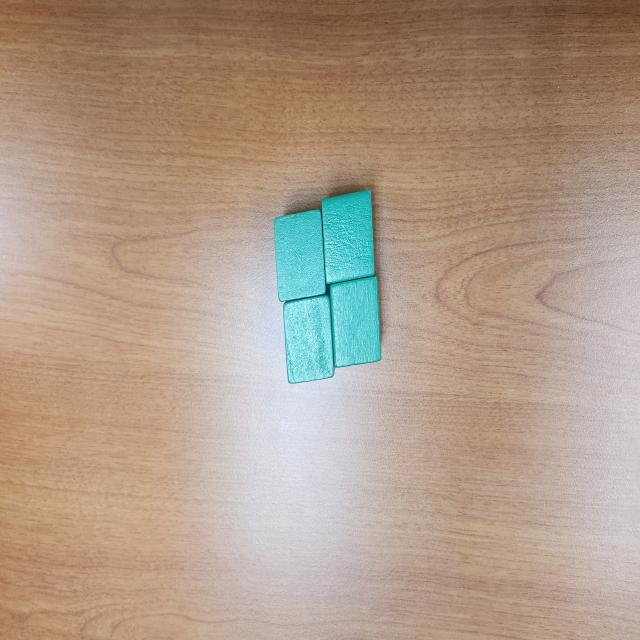green: (322, 188, 376, 285), (273, 206, 327, 302), (329, 276, 381, 370), (282, 294, 335, 386)
